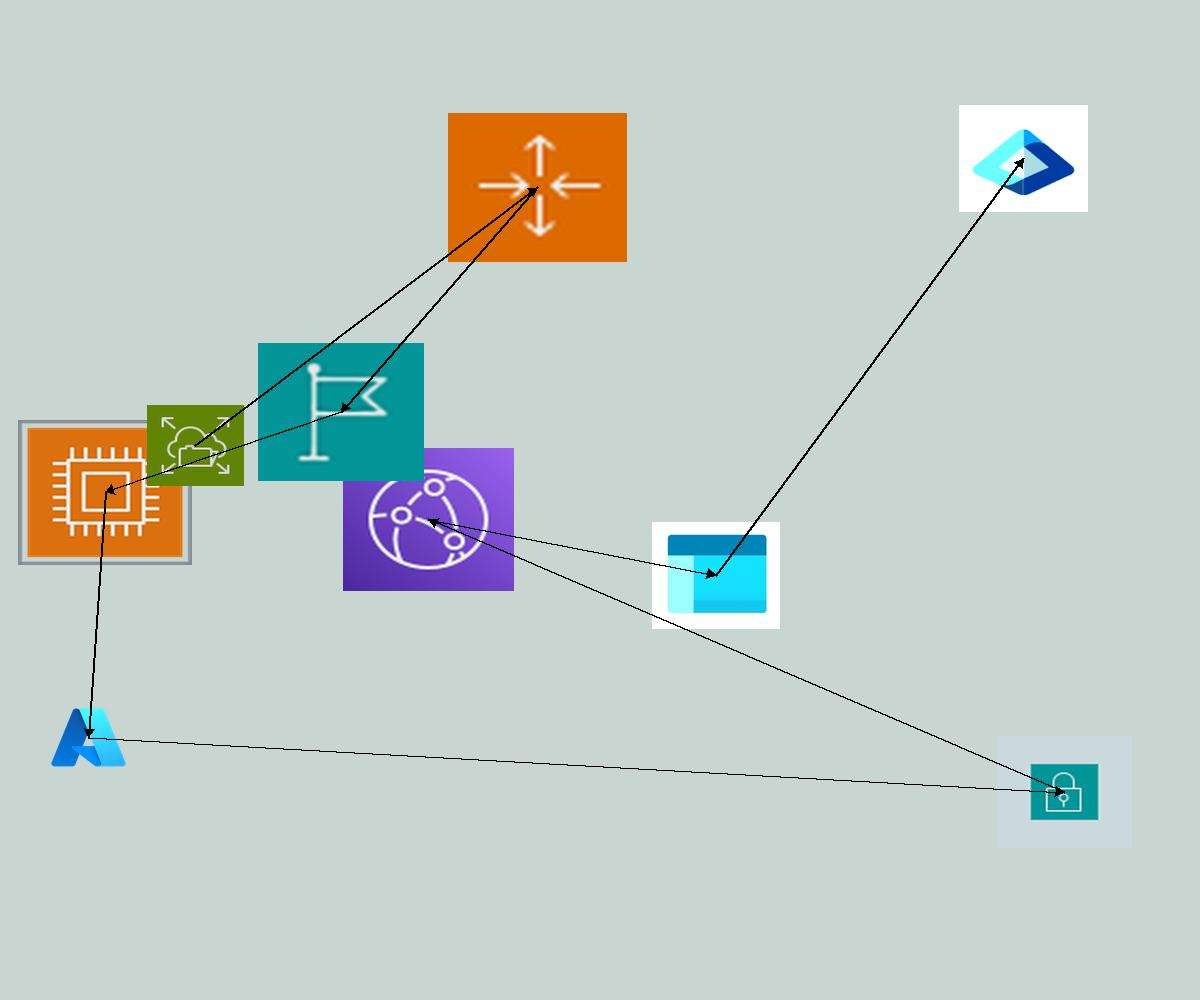AWS-Category_Compute: (18, 420, 192, 565)
AWS-CloudFront: (343, 448, 514, 591)
AWS-EFS: (147, 405, 244, 486)
AWS-Private-subnet: (997, 736, 1132, 848)
AWS-Region: (258, 343, 424, 481)
AWS-Scaling-group: (448, 113, 627, 262)
Azure_management-portal: (652, 522, 780, 629)
Azure_microsoft_entra: (959, 105, 1088, 212)
Azure_services: (48, 704, 129, 771)
